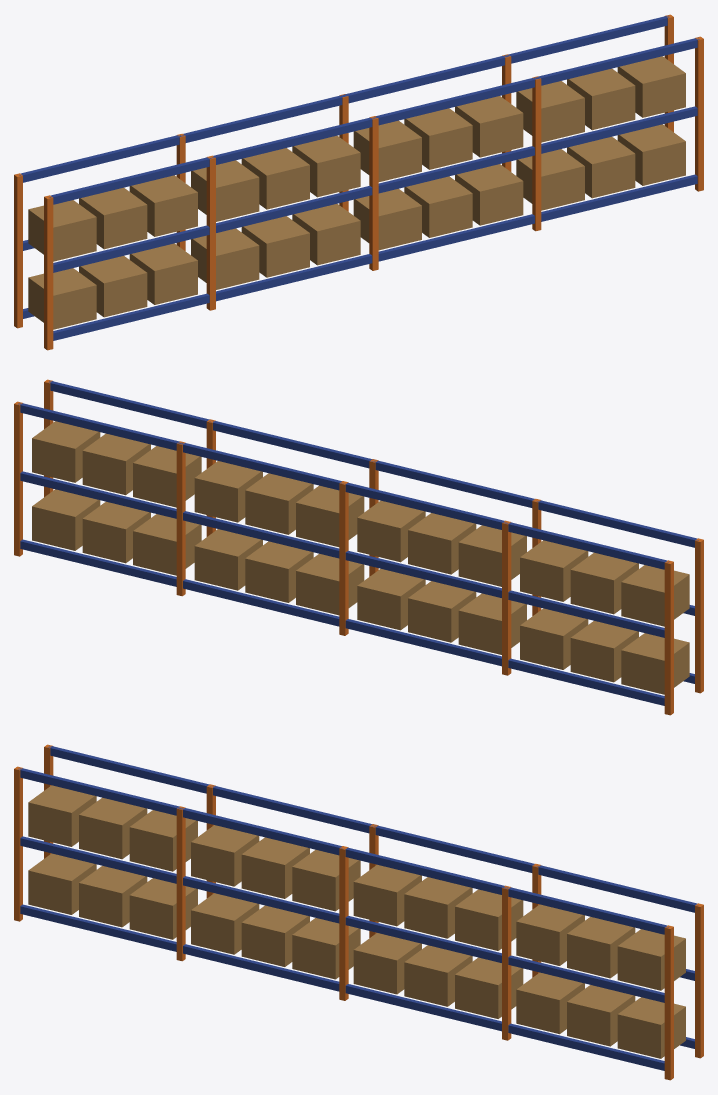
Rendered from stock rack.glb.
3 views of the same model, one above another, from view 1: azimuth 30°, elevation 25°; view 2: azimuth 150°, elevation 25°; view 3: azimuth 330°, elevation 25° (orthographic).
Visible parts, largest first — view 1: stock rack; view 2: stock rack; view 3: stock rack.
Boxes of the visible parts, <box> form: stock rack: <box>14,14,703,350</box>; stock rack: <box>14,379,703,715</box>; stock rack: <box>14,744,703,1080</box>.
Bounding box in the file's own units: 9.08 × 2 × 0.8.
